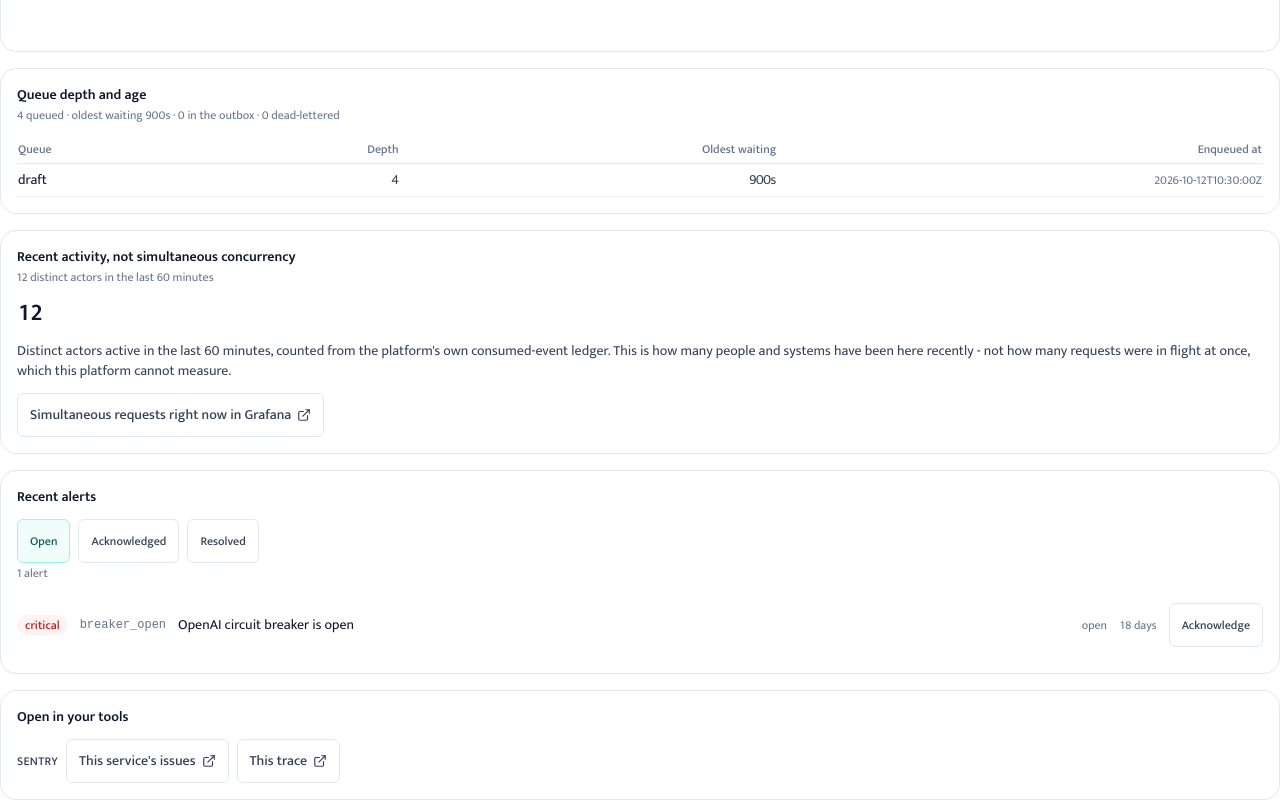
Scenario: ObservabilityReliabilityPage over the real wire › acknowledges over the real wire and re-reads the open list
The image size is (1280, 800).
(page scrolled)
Click the button with test id "observability-alert-alert-1-acknowledge" at coordinates (1216, 625), box [1169, 603, 1263, 647]
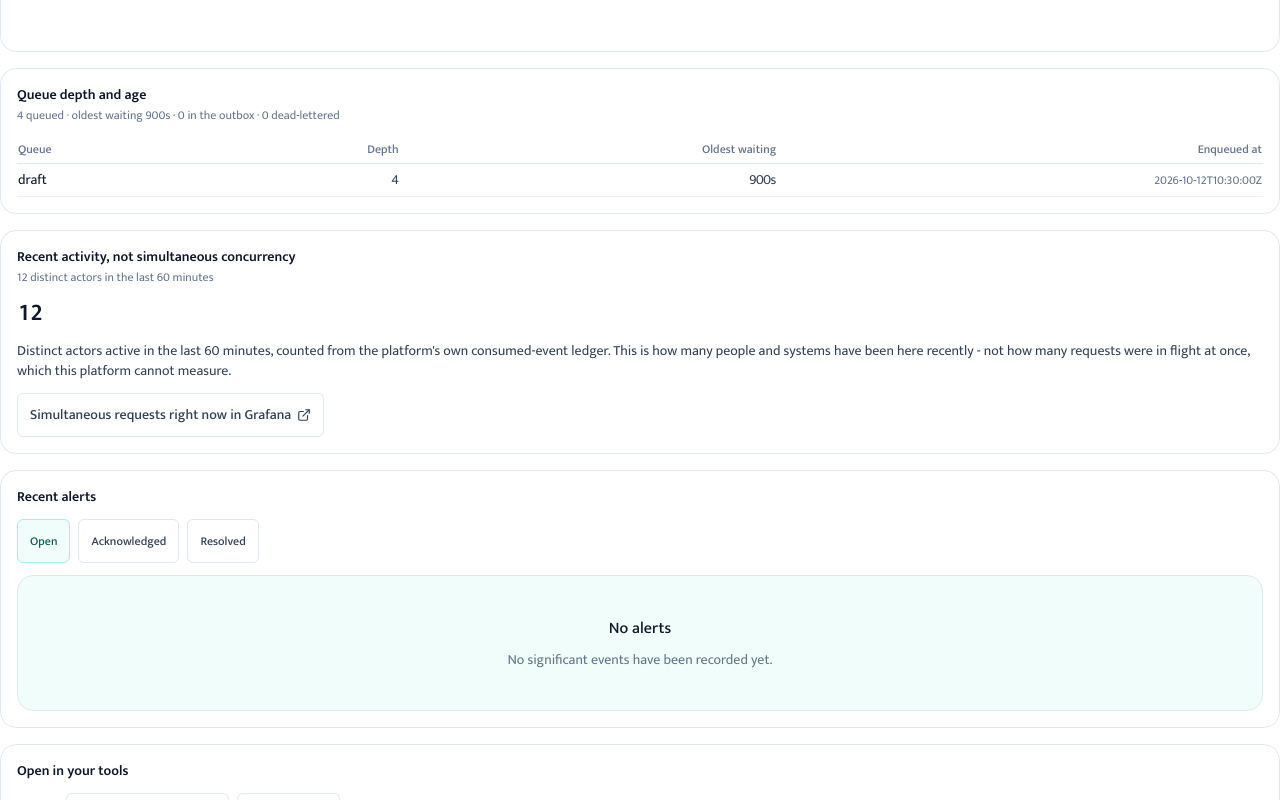
expect the list item with test id "observability-alert-alert-1" is gone: met
